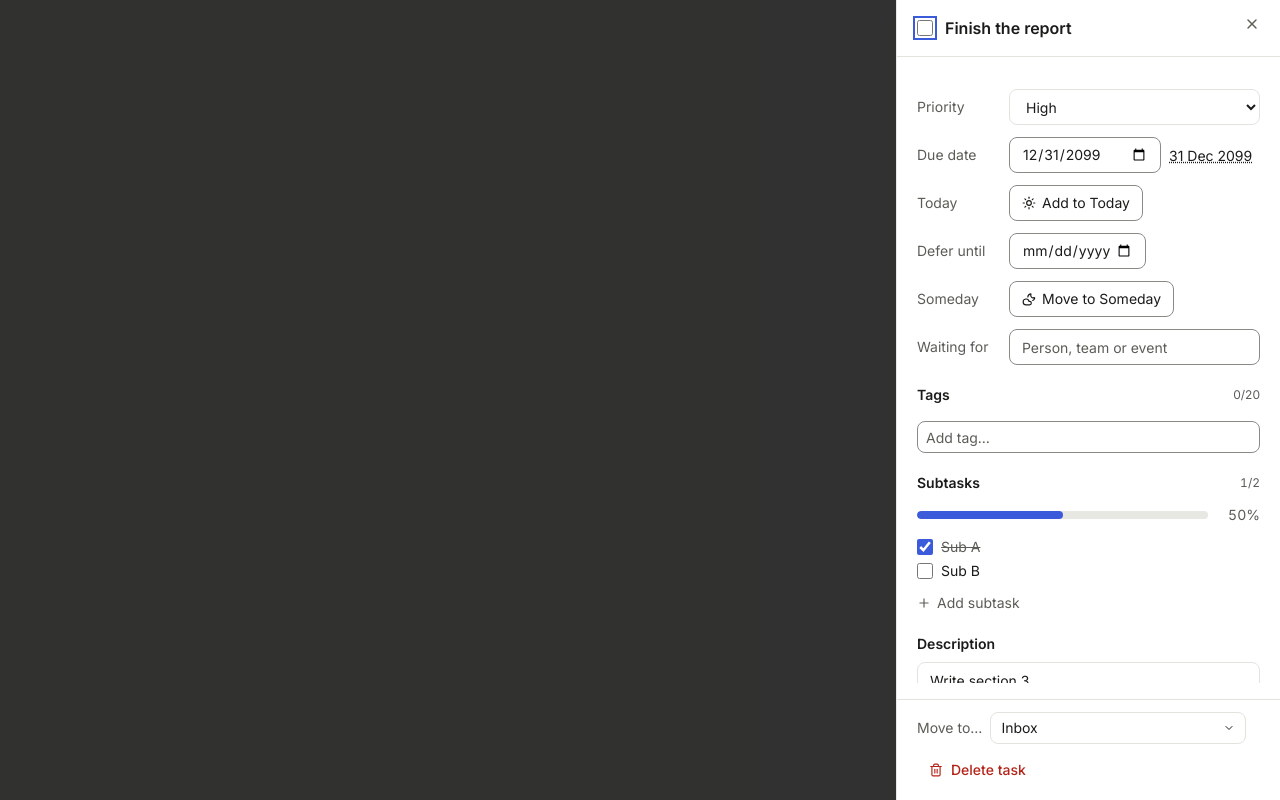
Test case: TaskDrawer › clicking "Add subtask" shows input form
Click the button "Add subtask": [968, 603] box [917,593,1020,613]
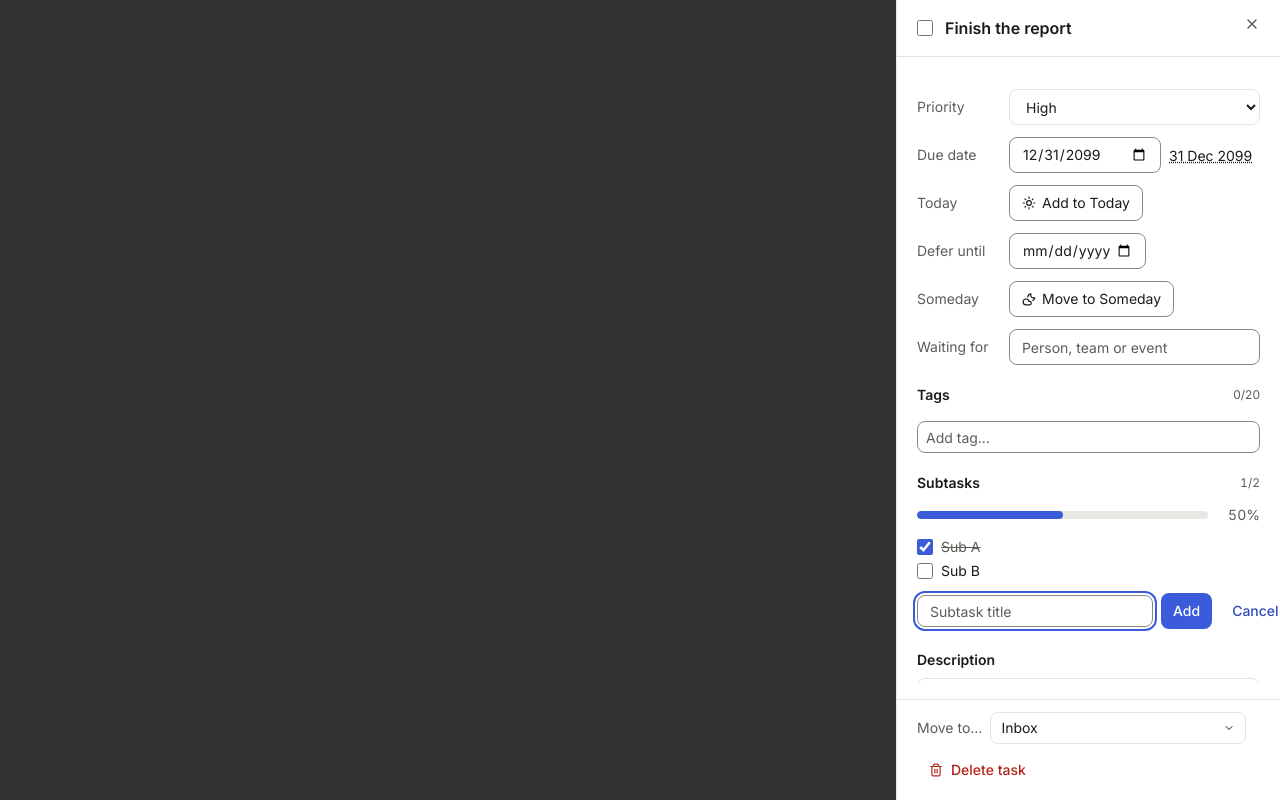
Check: the field named "new subtask title" is shown, box [917,595,1153,627]
